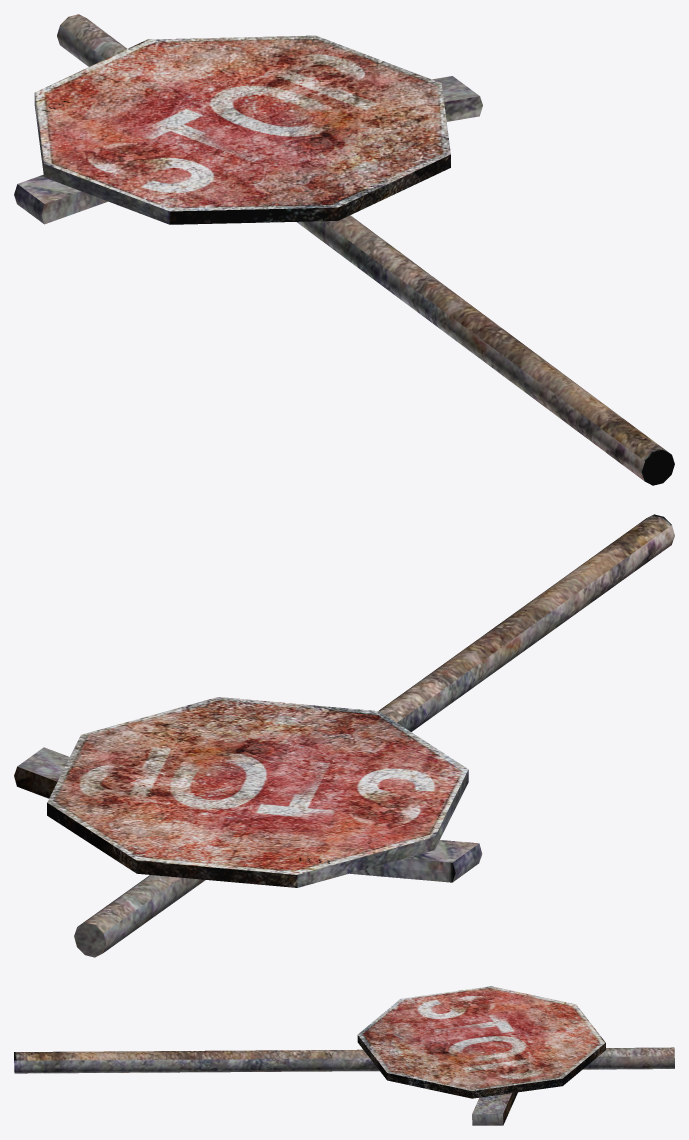
Rendered from StopSign.FBX.
3 renders of one model, top to bottom at view 1: azimuth 30°, elevation 25°; view 2: azimuth 150°, elevation 25°; view 3: azimuth 270°, elevation 25°, orthographic. The views are drawn at different scales.
Parts seen in each view (by area): view 1: Cylinder003, Cylinder002; view 2: Cylinder003, Cylinder002; view 3: Cylinder003, Cylinder002.
Part boxes in pixels (<box>): Cylinder003: <box>34,35,450,224</box>; Cylinder002: <box>14,14,674,485</box>; Cylinder003: <box>47,697,468,887</box>; Cylinder002: <box>14,514,674,957</box>; Cylinder003: <box>357,986,605,1098</box>; Cylinder002: <box>14,1047,674,1125</box>.
Size of the model in its own units: 6.21 by 0.775 by 14.05.
1 material, 1 textured.
